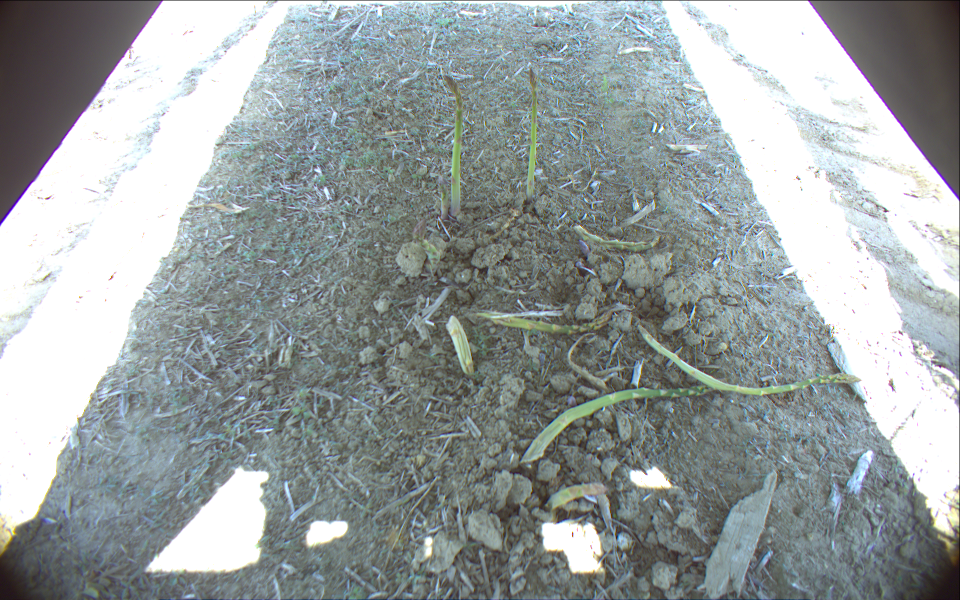aspa: (638, 326, 863, 397), (520, 386, 712, 464), (441, 73, 463, 221), (478, 309, 614, 332), (573, 223, 657, 249), (443, 316, 476, 378), (527, 68, 539, 195), (440, 182, 449, 221)
